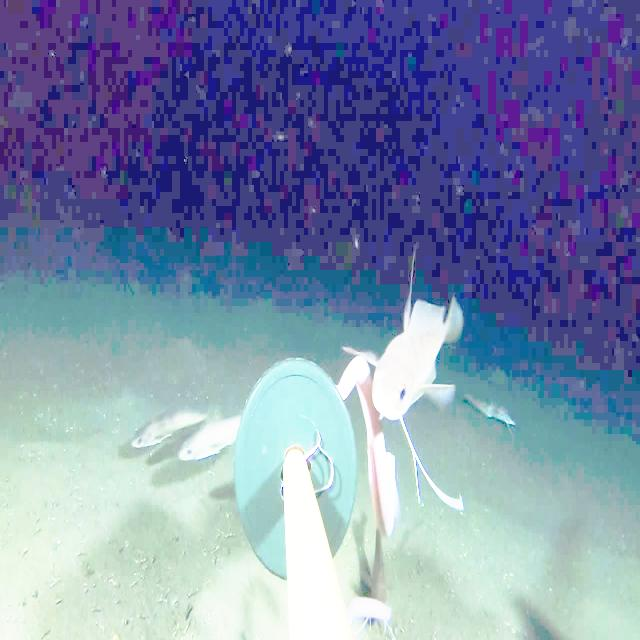eel: (330, 352, 400, 548), (341, 592, 395, 629)
fish: (339, 234, 476, 540), (147, 396, 258, 495), (111, 380, 221, 474), (454, 361, 529, 449)
